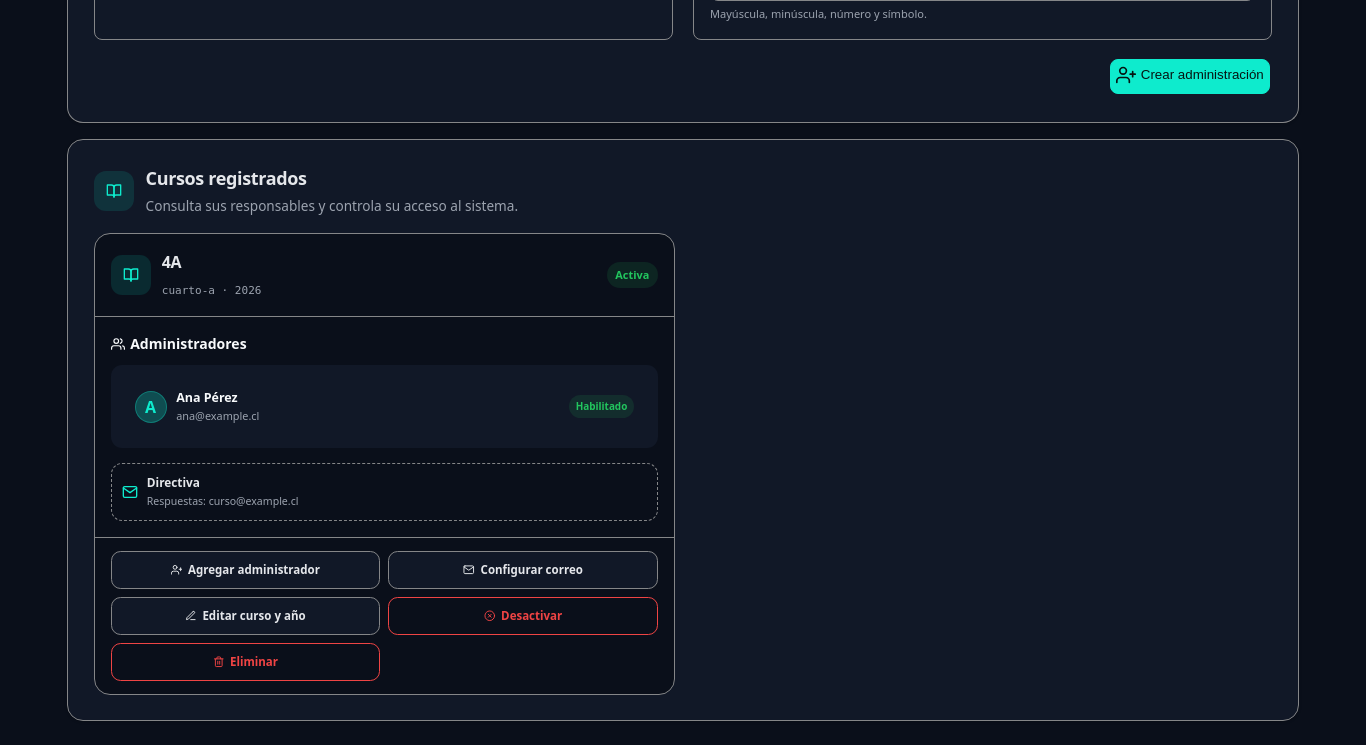
Test case: course administration through HTTP › creates an additional administrator and closes the form after success
The image size is (1366, 745).
(page scrolled)
Expected: the text "ana@example.cl" is shown, x1=176 y1=408 x2=259 y2=423
Step 1. Click the button "Agregar administrador" → click(245, 570), box x1=111 y1=551 x2=380 y2=589
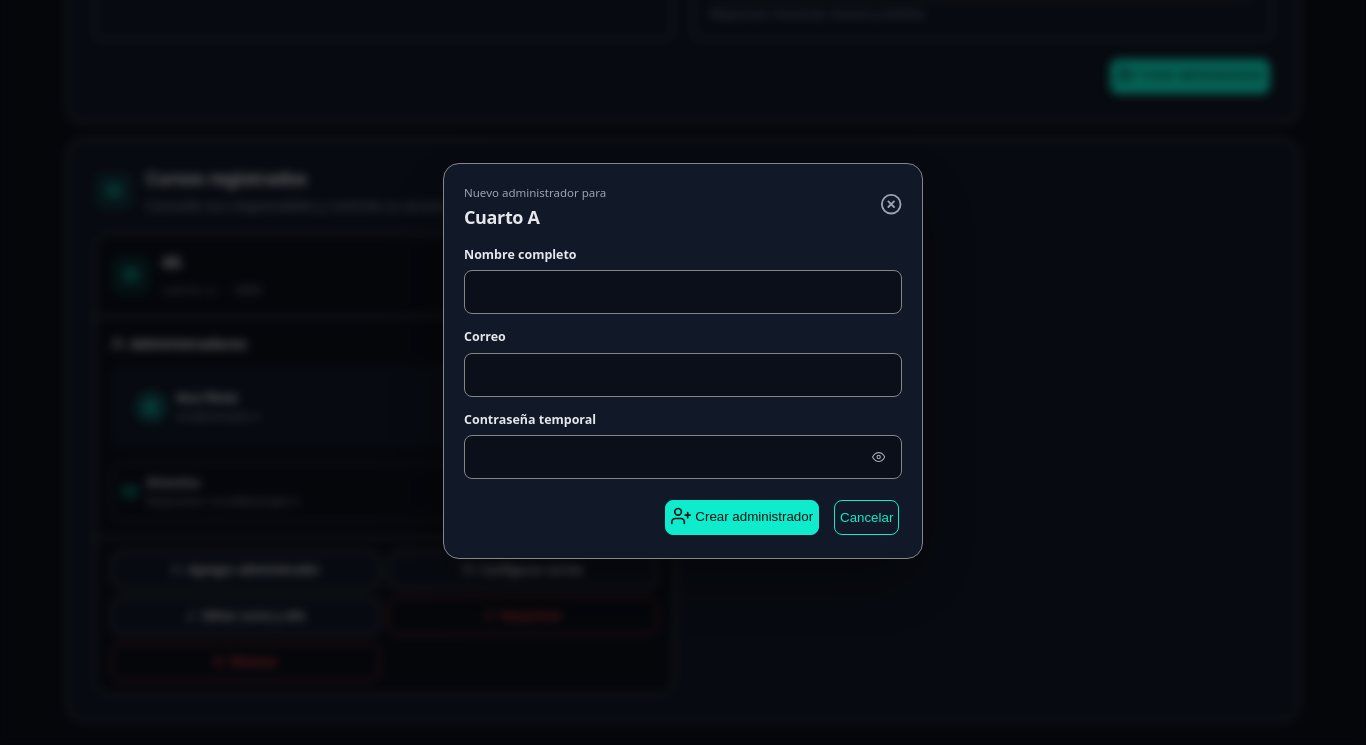
Step 2. Type "  Luis Pérez  " into the field labelled "Nombre completo" → (683, 292), box x1=464 y1=270 x2=902 y2=314
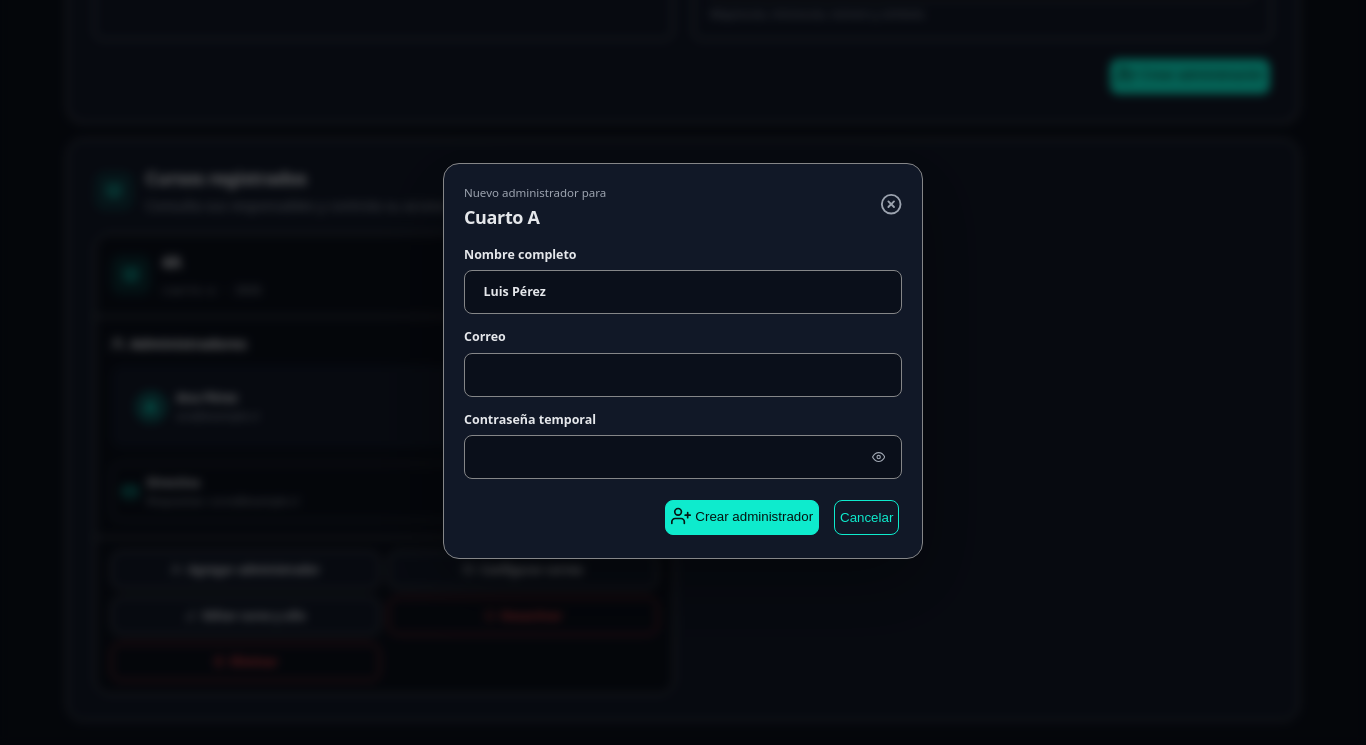
Step 3. Type "LUIS@EXAMPLE.CL" into the field labelled "Correo" → (683, 375), box x1=464 y1=353 x2=902 y2=397
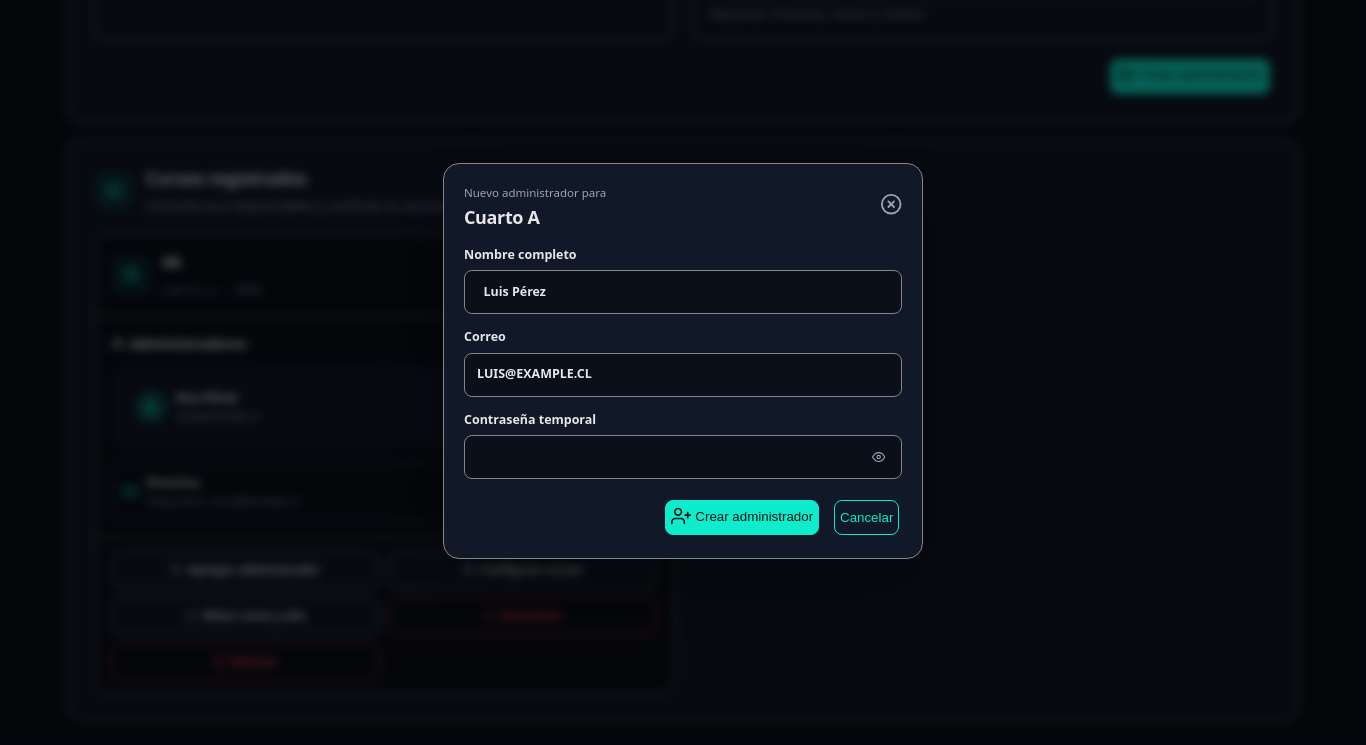
Step 4. Type "ValidPass1!" into the password field labelled "Contraseña temporal" → (683, 457), box x1=464 y1=435 x2=902 y2=479
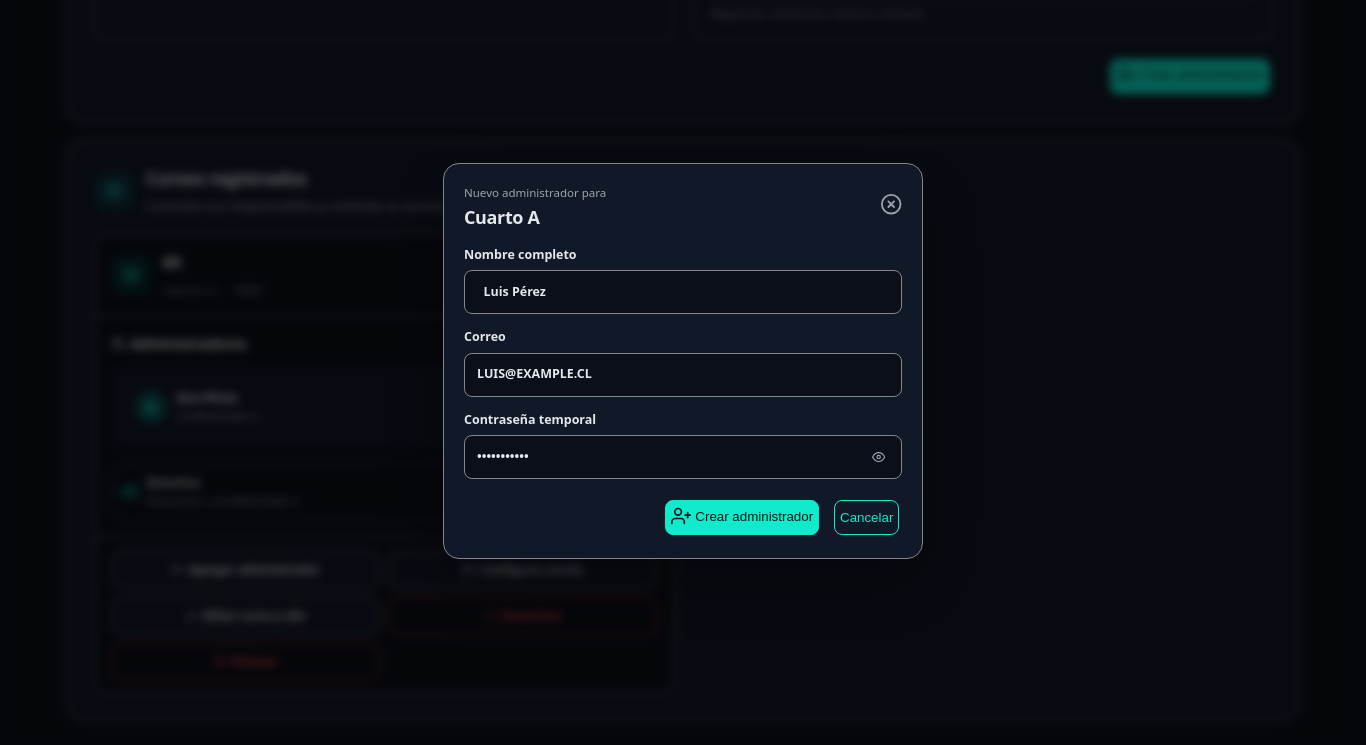
Step 5. Click the button "Crear administrador" → click(742, 518), box x1=664 y1=500 x2=819 y2=536
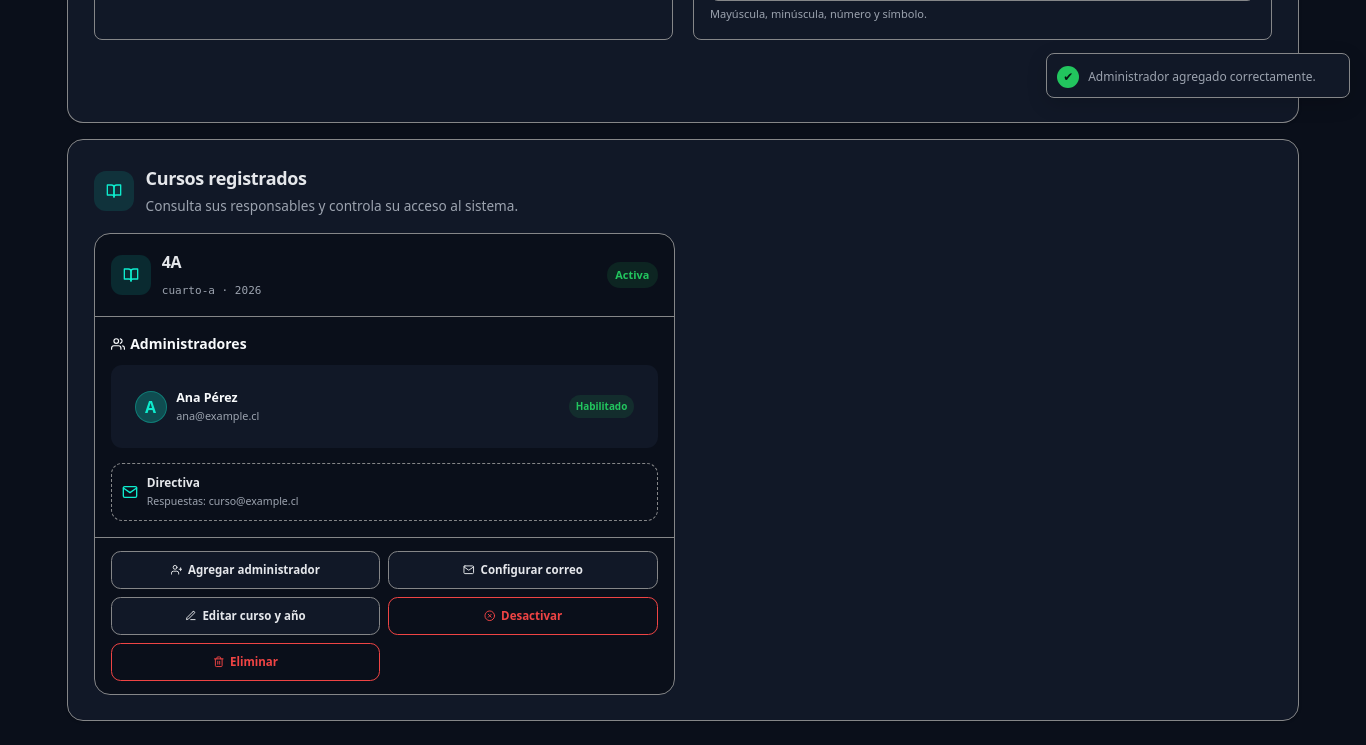
Now the text "Administrador agregado correctamente." is shown, box x1=1088 y1=69 x2=1339 y2=84
